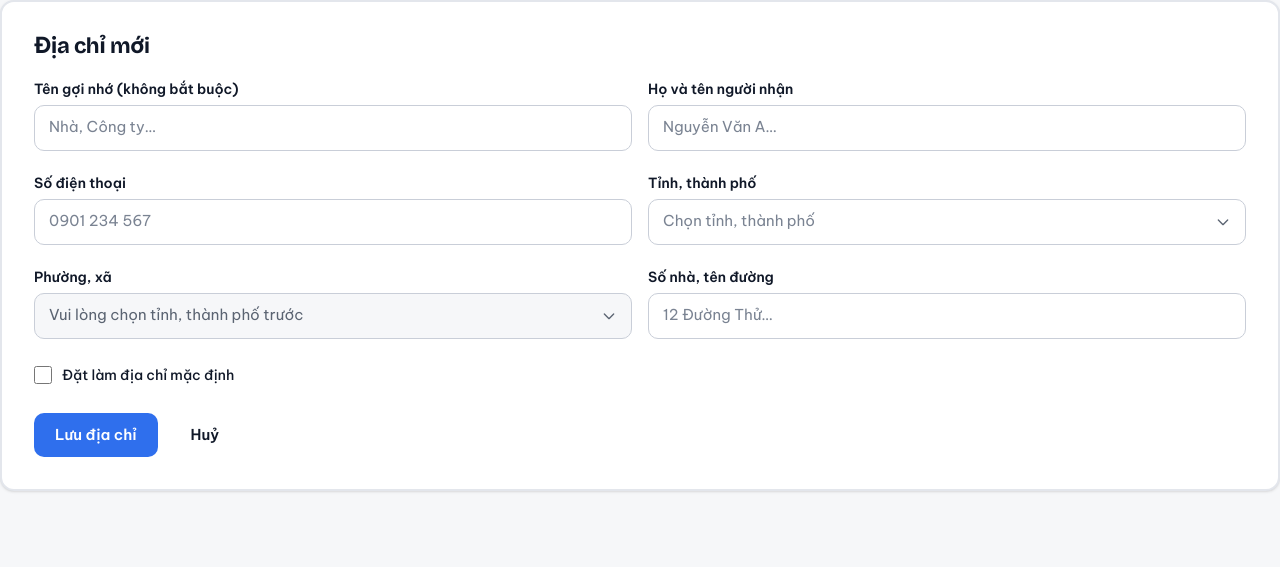
Test: AddressForm (AC-5, AC-6, AC-7, AC-8, AC-9, AC-12) › shows validation errors when submitting an empty form (AC-7)
Click the button "Lưu địa chỉ": [96, 435] box [34,413,158,457]
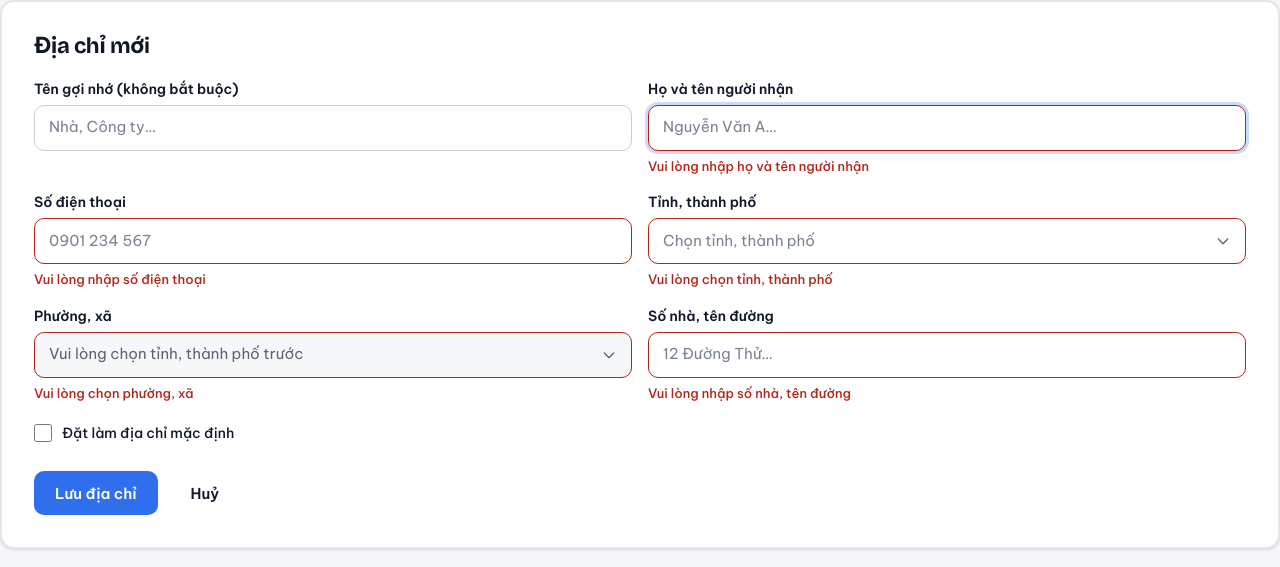
Result: the text "Vui lòng nhập họ và tên người nhận" is shown at [648,158,869,174]
Result: the text "Vui lòng nhập số điện thoại" is shown at [34,271,206,287]
Result: the text "Vui lòng chọn tỉnh, thành phố" is shown at [648,271,833,287]
